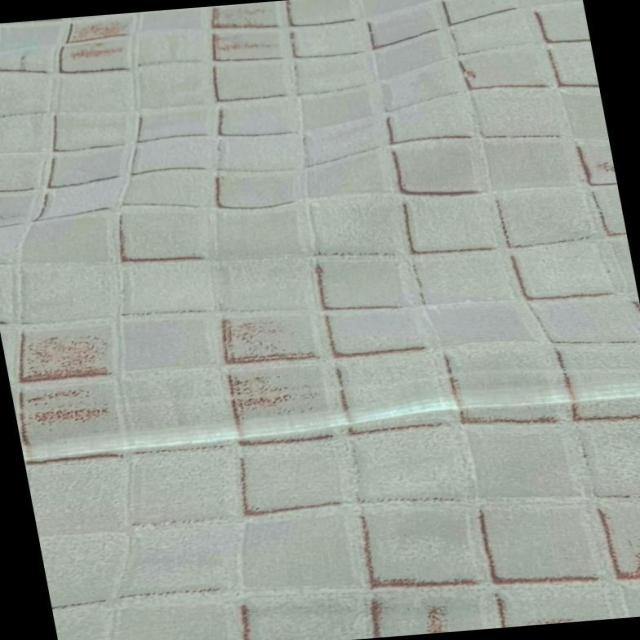selvet: (17, 373, 640, 479)
